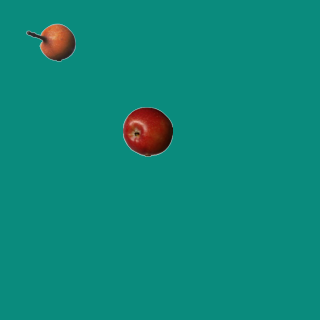Apple Braeburn: (122, 106, 172, 156)
Granadilla: (25, 17, 75, 67)
